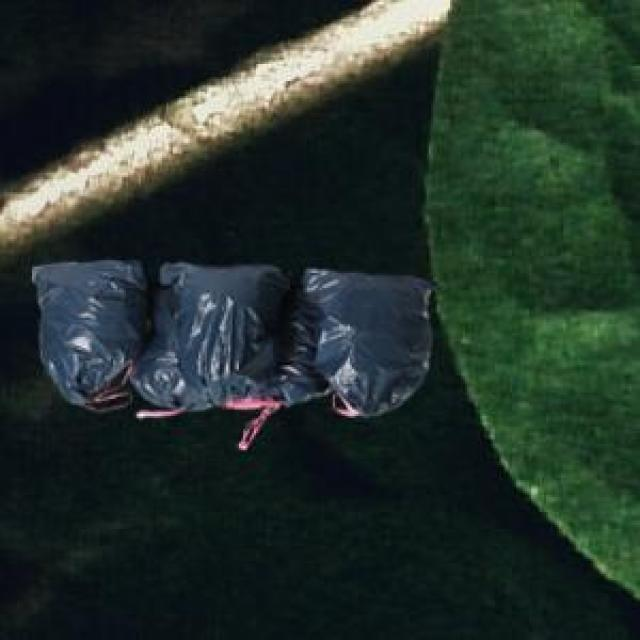miscellaneous trash: (28, 256, 443, 412)
